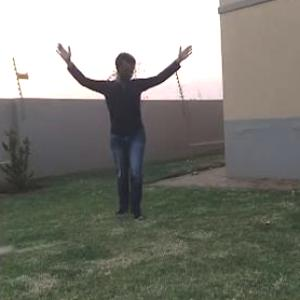takeoff: (45, 32, 195, 209)
